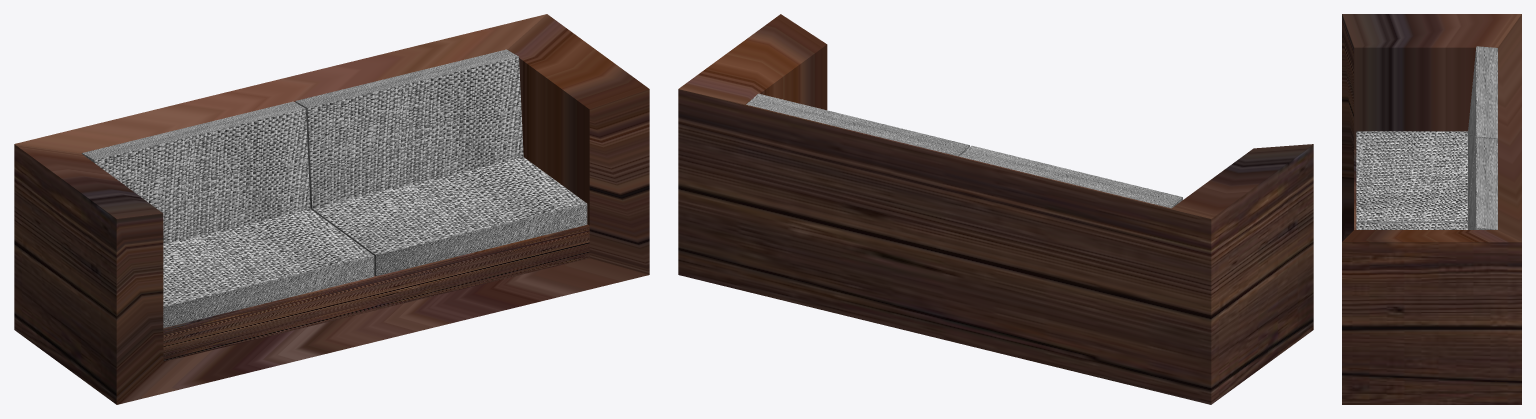
File: couch2.glb
3 renders of one model, left to right at view 1: azimuth 30°, elevation 25°; view 2: azimuth 150°, elevation 25°; view 3: azimuth 270°, elevation 25°, orthographic. The views are drawn at different scales.
Parts seen in each view (by area): view 1: Cube, Cube.004, Cube.003, Cube.002, Cube.001; view 2: Cube, Cube.003, Cube.004; view 3: Cube, Cube.001, Cube.003, Cube.004, Cube.002.
Part boxes in pixels (x1,y1,x2,y2): Cube: [14, 14, 649, 404]; Cube.004: [295, 49, 523, 208]; Cube.003: [82, 101, 310, 244]; Cube.002: [310, 157, 587, 276]; Cube.001: [163, 209, 374, 328]; Cube: [678, 14, 1313, 404]; Cube.003: [959, 145, 1182, 208]; Cube.004: [746, 93, 969, 156]; Cube: [1342, 14, 1521, 404]; Cube.001: [1356, 131, 1467, 222]; Cube.003: [1468, 46, 1497, 221]; Cube.004: [1468, 137, 1497, 229]; Cube.002: [1356, 222, 1467, 229].
Bounding box in the file's own units: 6 × 2 × 2.
2 materials, 2 textured.
